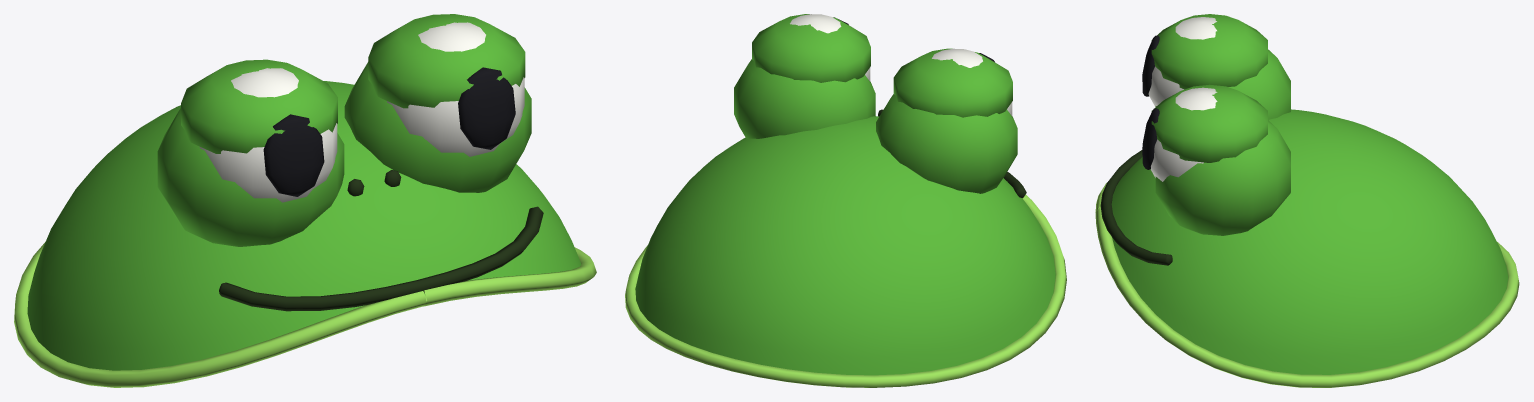
The model's file is hat_frog.glb.
The picture shows the model from 3 angles, left to right: view 1: azimuth 30°, elevation 25°; view 2: azimuth 150°, elevation 25°; view 3: azimuth 270°, elevation 25°; orthographic projection. The views are drawn at different scales.
Visible parts, largest first — view 1: HatFrog; view 2: HatFrog; view 3: HatFrog.
Part boxes in pixels (<box>): HatFrog: <box>14,14,596,387</box>; HatFrog: <box>625,14,1066,387</box>; HatFrog: <box>1095,14,1519,387</box>.
Bounding box in the file's own units: 0.5444 × 0.3174 × 0.5063.
